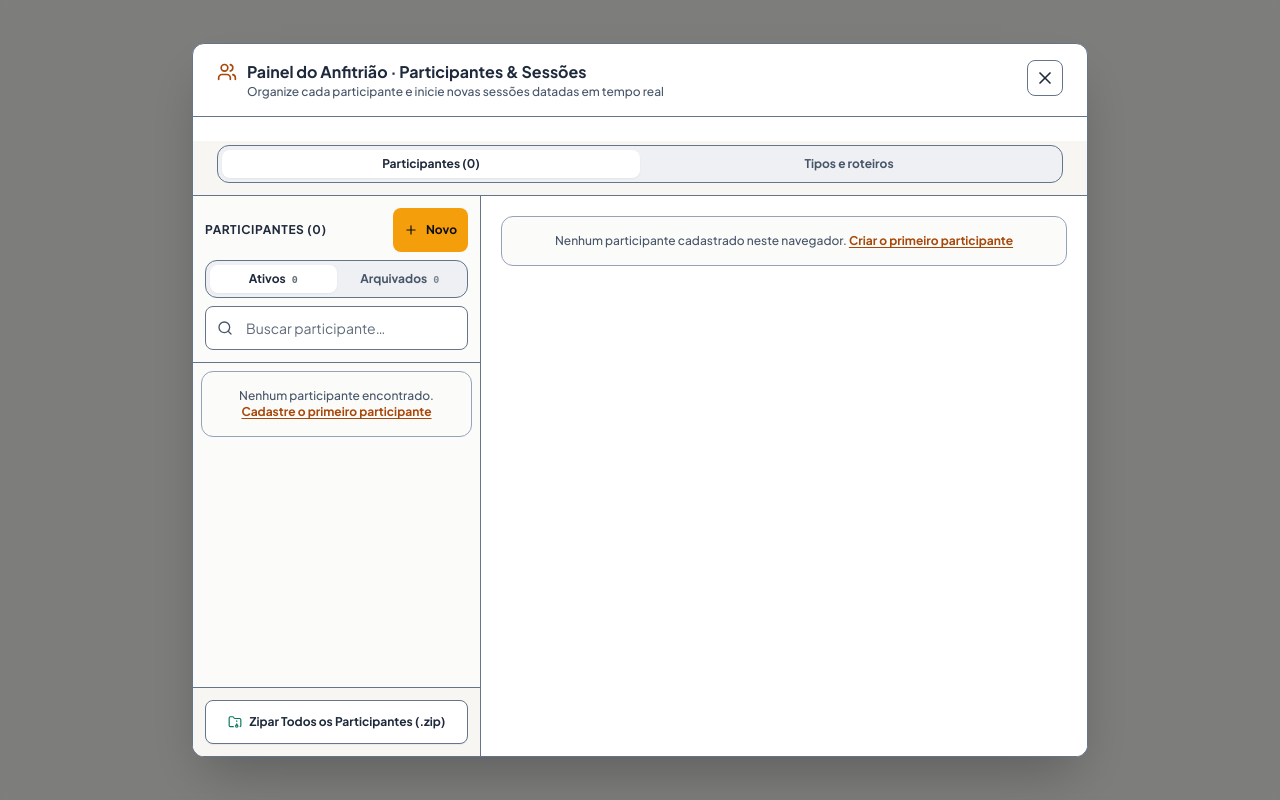
Scenario: AdminClientManager empty states › no clients: the placeholder is not a button and links to creation
Expected: the text "Nenhum participante cadastrado neste navegador." is shown, [555,233,847,248]
Click the button "Criar o primeiro participante": (931, 241) [849,233,1013,249]
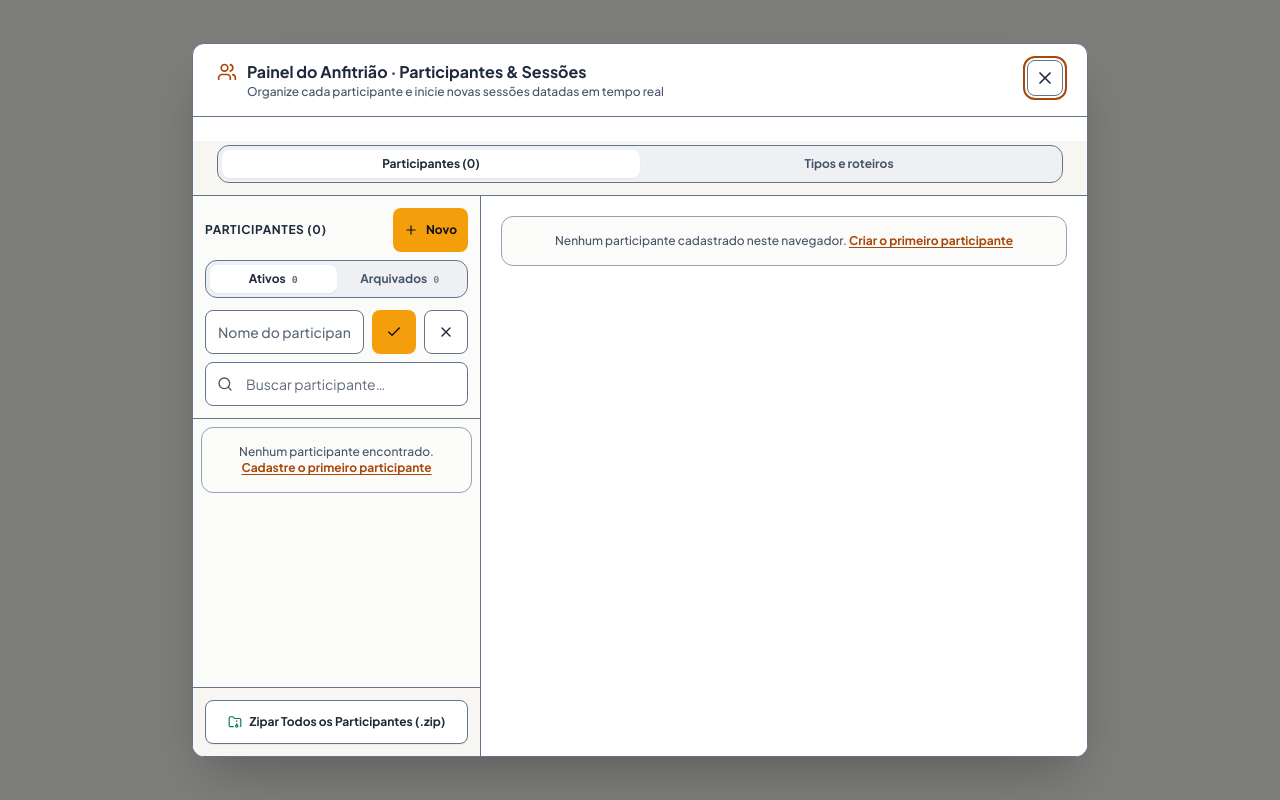
Now the field named "Nome do novo participante" is shown, box [205,310,364,354]
